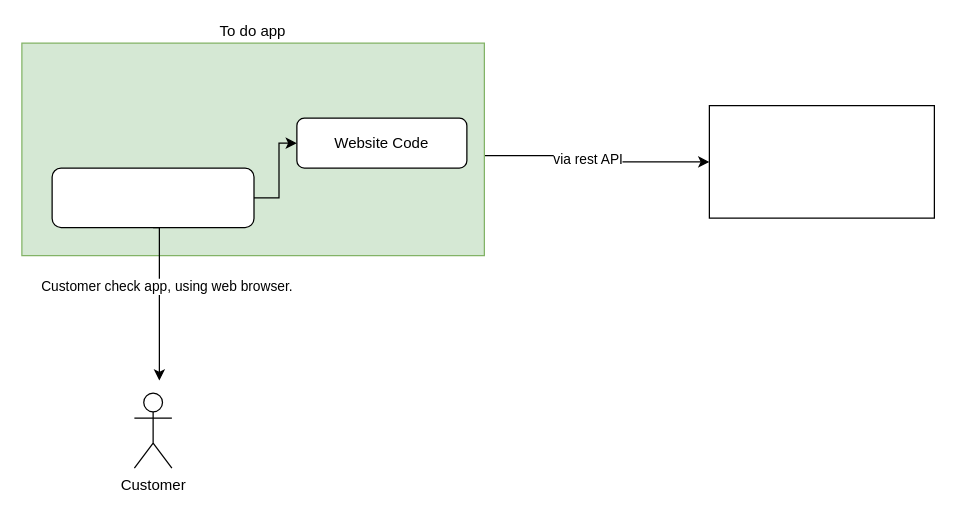
Some shapes in this 956 by 515 pixel diagram are drawn without their labels. Here are the shapes that lost their labels. From the top down, the centre of each, then its label:
the point at 821,161: Trello
the point at 152,197: Flask Webserver
